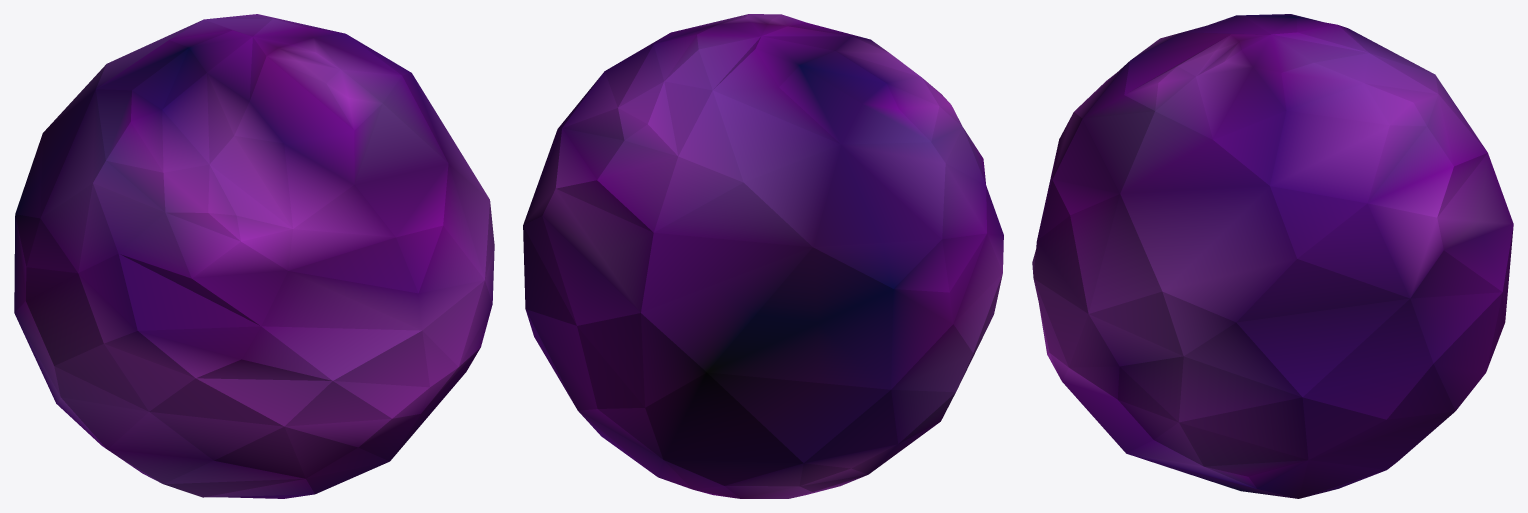
The picture shows the model from 3 angles, left to right: view 1: azimuth 30°, elevation 25°; view 2: azimuth 150°, elevation 25°; view 3: azimuth 270°, elevation 25°; orthographic projection.
Visible parts, largest first — view 1: part3; view 2: part3; view 3: part3.
Boxes of the visible parts, x1,y1,x2,y2 form: part3: (14, 14, 494, 498); part3: (523, 14, 1003, 498); part3: (1032, 14, 1513, 498).
Size of the model in its own units: 12.82 by 13.03 by 12.81.
